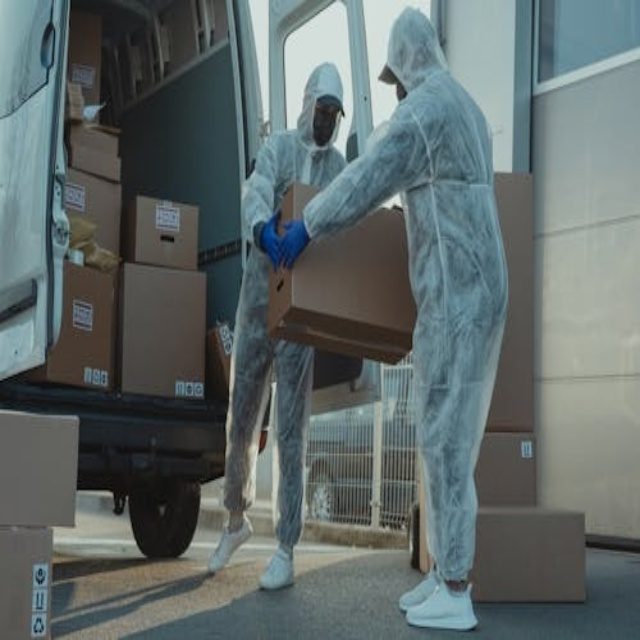Guantes: (274, 206, 311, 277), (255, 198, 279, 273)
Mascara: (313, 108, 338, 146), (395, 81, 409, 103)
